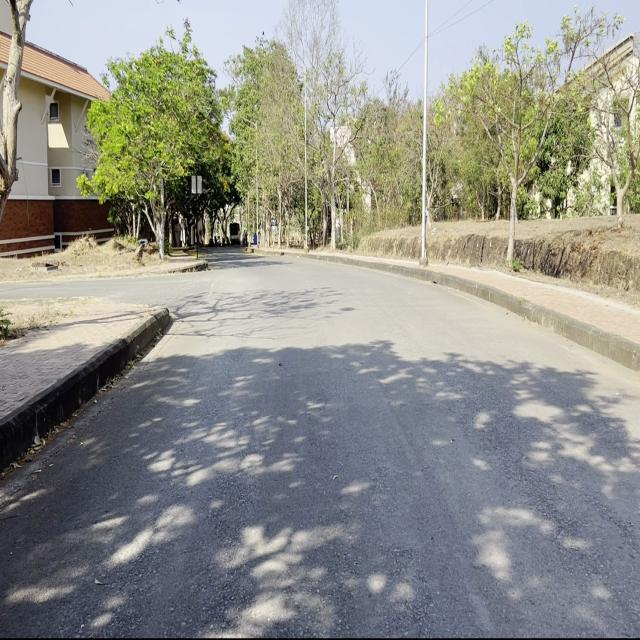Road: (3, 252, 638, 633)
